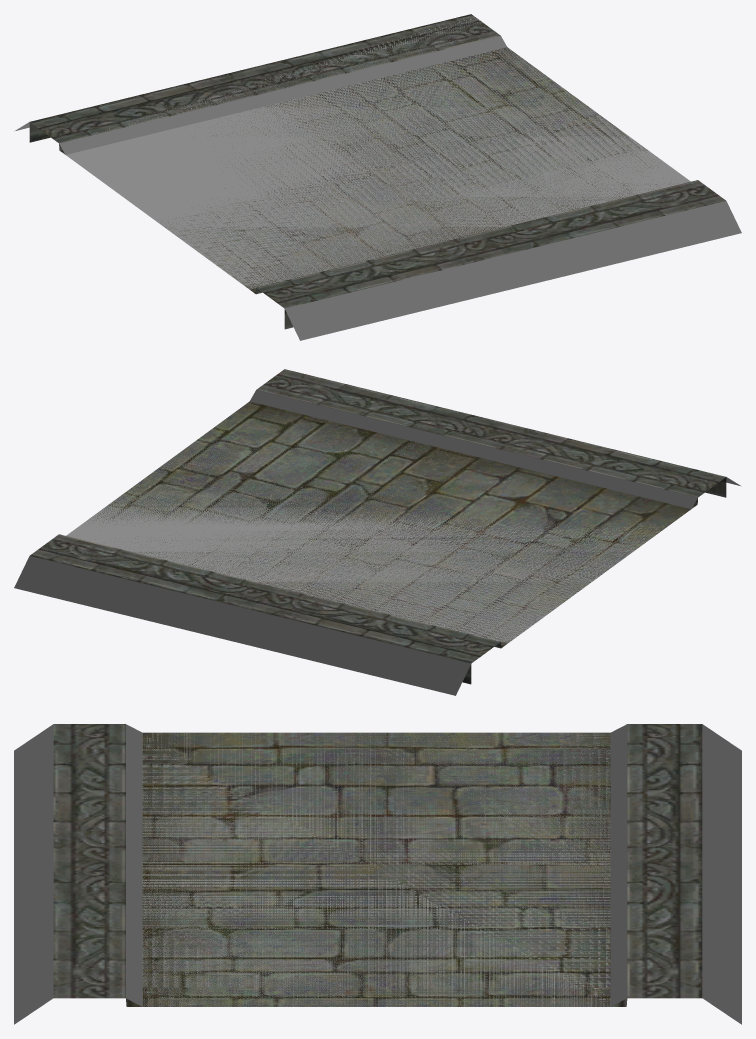
The model's file is YHJ_dimian_a.FBX.
3 renders of one model, top to bottom at view 1: azimuth 30°, elevation 25°; view 2: azimuth 150°, elevation 25°; view 3: azimuth 270°, elevation 25°, orthographic. The views are drawn at different scales.
Parts seen in each view (by area): view 1: YHJ_dimian_a-col, YHJ_dimian_a; view 2: YHJ_dimian_a, YHJ_dimian_a-col; view 3: YHJ_dimian_a, YHJ_dimian_a-col.
Boxes of the visible parts, x1,y1,x2,y2 form: YHJ_dimian_a-col: [14, 16, 741, 340]; YHJ_dimian_a: [29, 14, 725, 329]; YHJ_dimian_a: [30, 369, 726, 684]; YHJ_dimian_a-col: [14, 390, 741, 695]; YHJ_dimian_a: [53, 724, 702, 1006]; YHJ_dimian_a-col: [14, 724, 741, 1024].
Size of the model in its own units: 5 by 0.2264 by 5.61.
